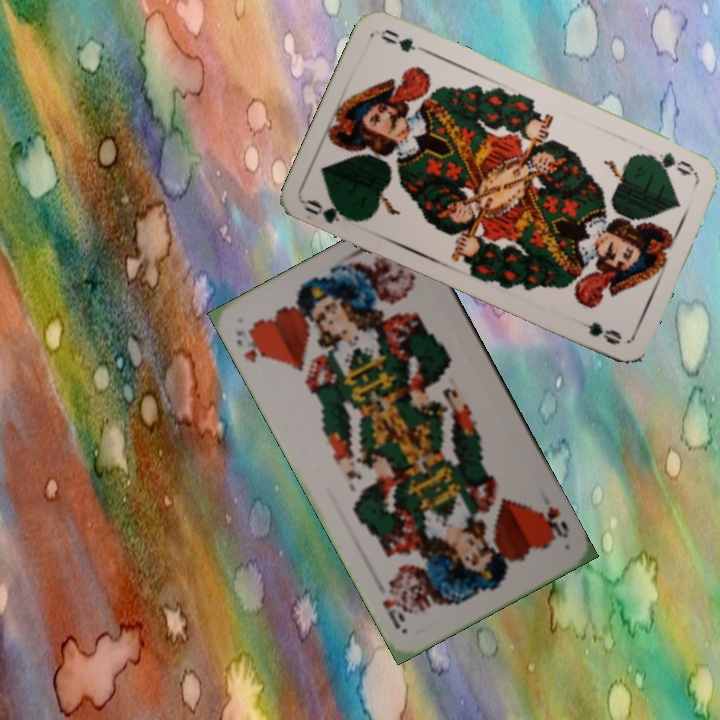GO: (300, 195, 361, 226), (641, 148, 698, 179)
HO: (532, 502, 572, 543), (232, 325, 270, 366)
